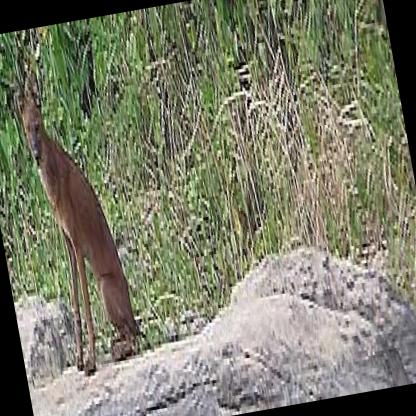dhole: (10, 57, 140, 367)
